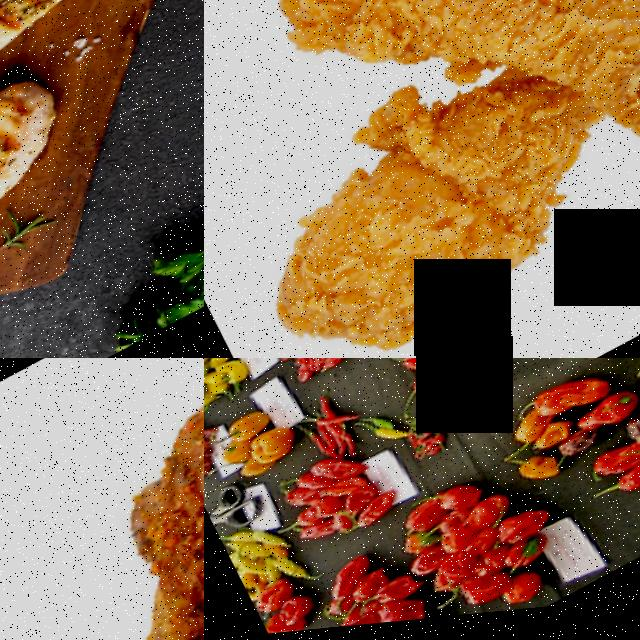chicken thigh: (0, 491, 204, 640)
chilli: (303, 402, 356, 440), (360, 418, 405, 457)
